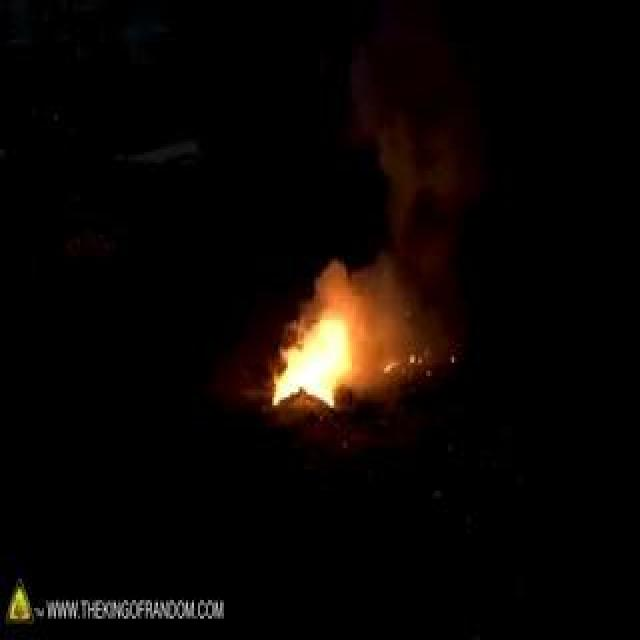Fire: (122, 198, 312, 346)
